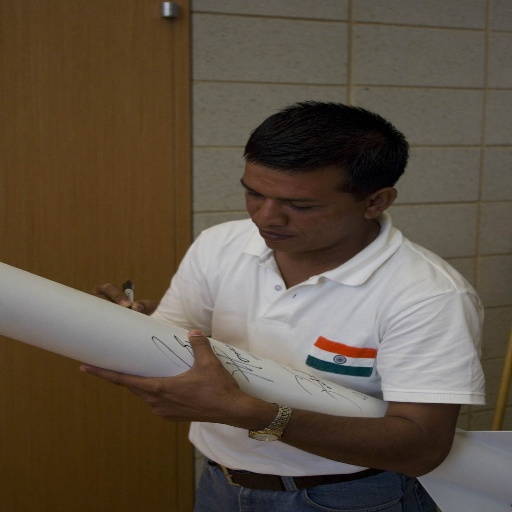hand: (78, 341, 300, 440), (89, 282, 156, 318)
